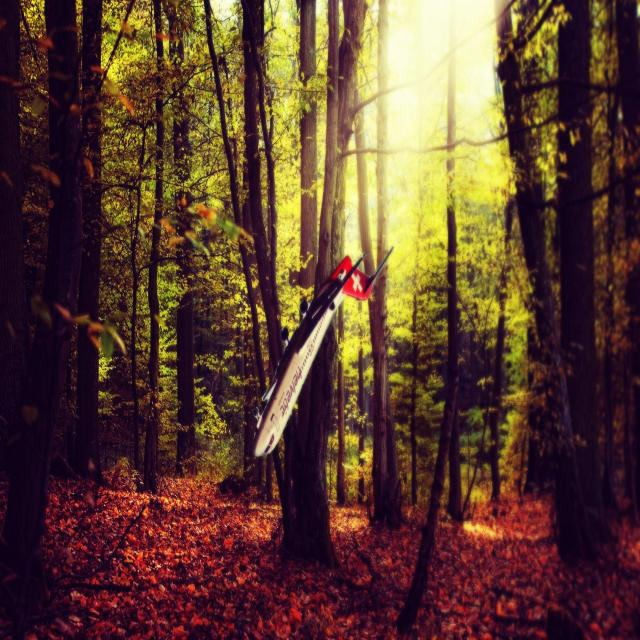airplane: (251, 244, 394, 458)
